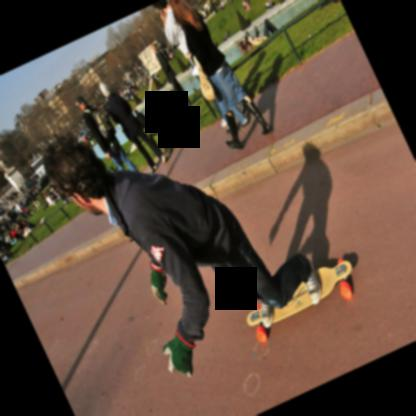backpack: (84, 106, 117, 139)
handbag: (195, 56, 215, 100)
